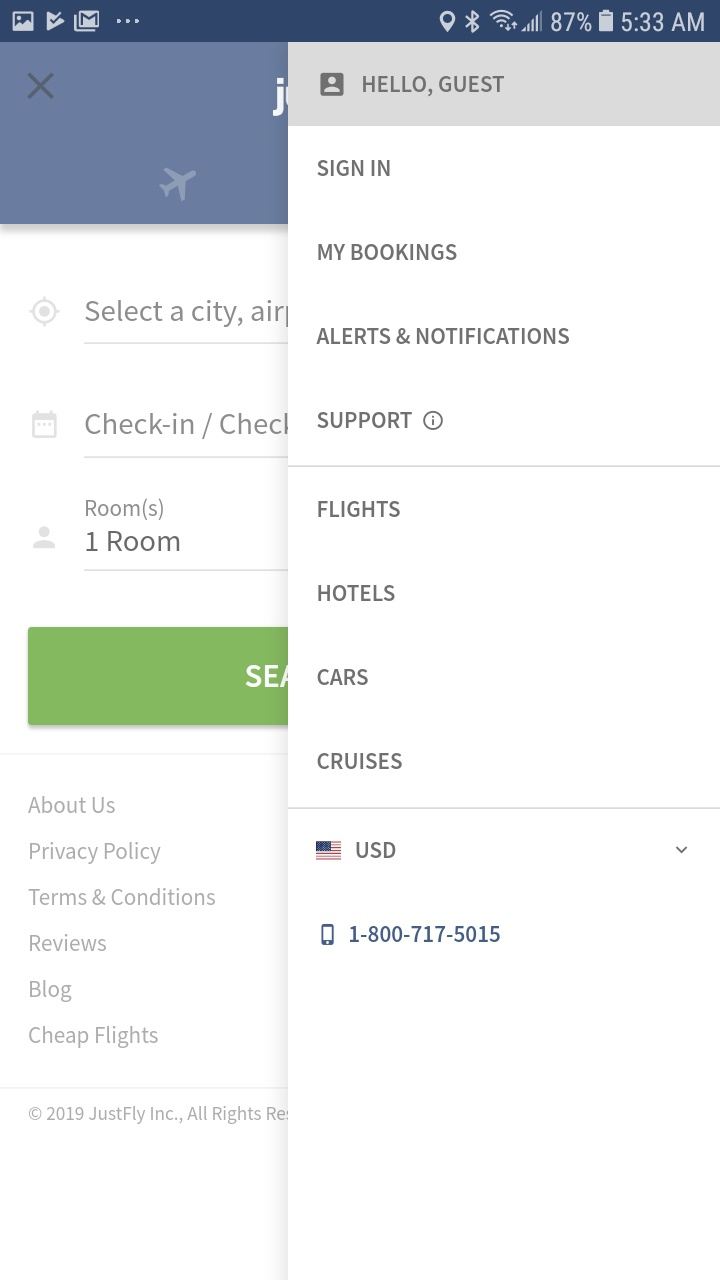Drawer: (288, 43, 720, 1275)
Icon: (320, 73, 345, 97), (423, 410, 444, 431), (676, 846, 688, 854)
Image: (315, 841, 342, 861), (321, 924, 335, 946)
Text: (316, 327, 570, 345), (363, 77, 505, 98), (350, 925, 501, 943), (318, 244, 458, 262), (317, 411, 413, 429), (317, 752, 403, 770), (318, 500, 401, 518), (318, 585, 396, 603), (317, 160, 391, 178), (317, 668, 369, 686), (356, 841, 397, 859)
UpperTaskBar: (1, 1, 720, 43)
